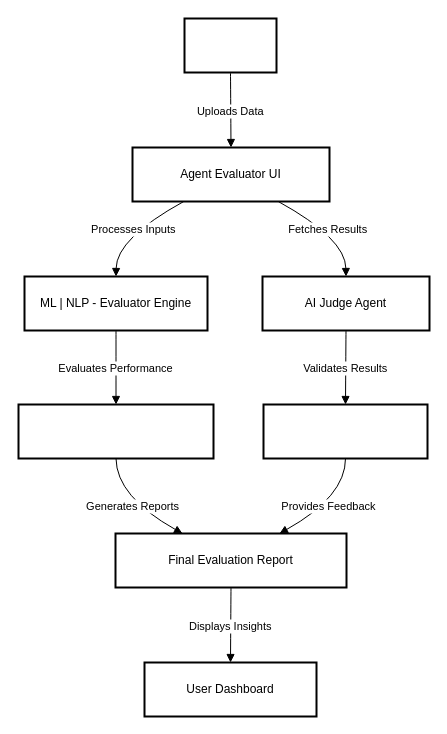
This 447x734 diagram has some shape labels left out. The centre of each missing label's shape, as x and y in pixels:
Evaluation Metrics: (x=115, y=431)
Judge Analysis: (x=345, y=431)
User: (x=230, y=45)
